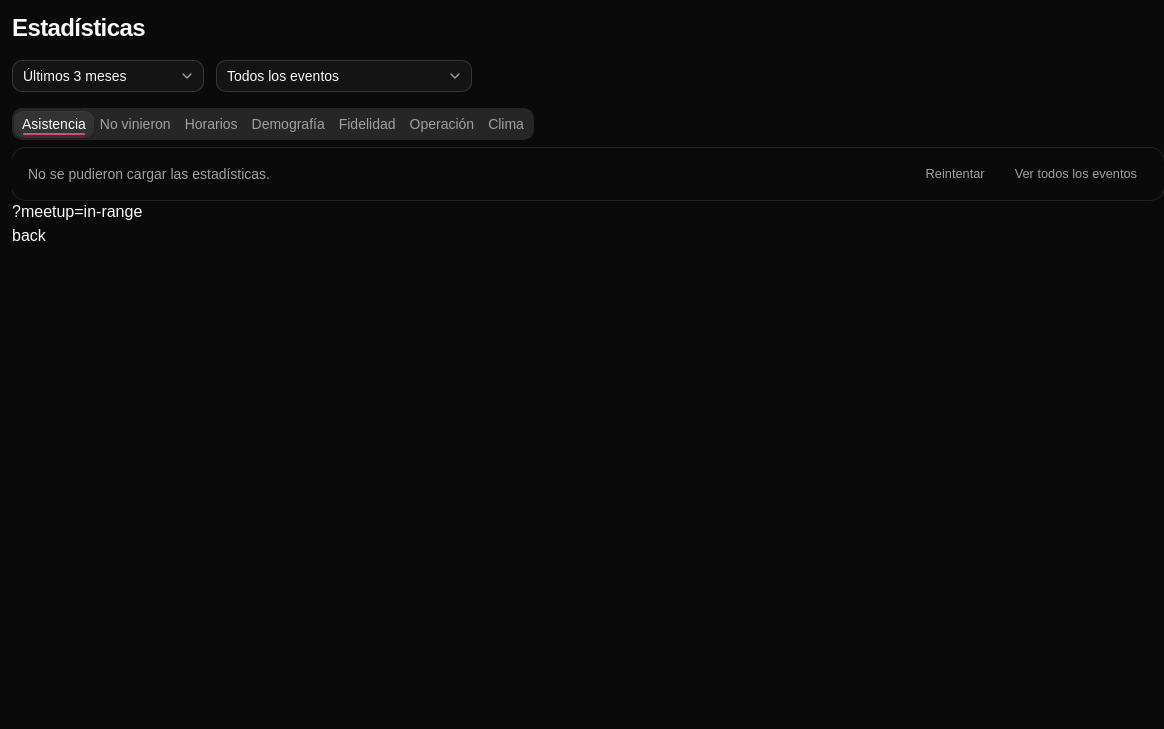
StatsPage › keeps the selected event when the meetups fail to load
Check: the message shows "No se pudieron cargar las estadísticas.", box [28,166,270,182]
Click the button "Reintentar". click: (955, 174)
box: [915,160,996,188]
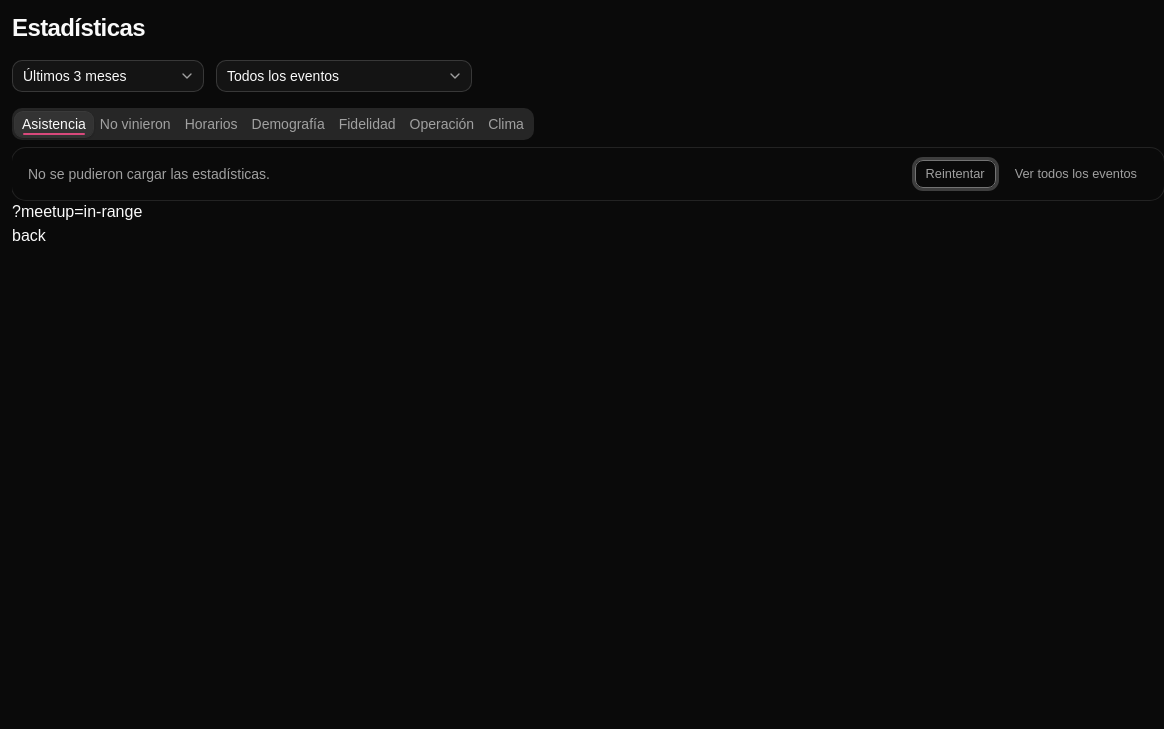
Check: the text with test id "search" reads "?meetup=in-range", box [12,203,142,220]
Click the button "Ver todos los eventos". click: (1076, 174)
box: [1004,160,1148,188]
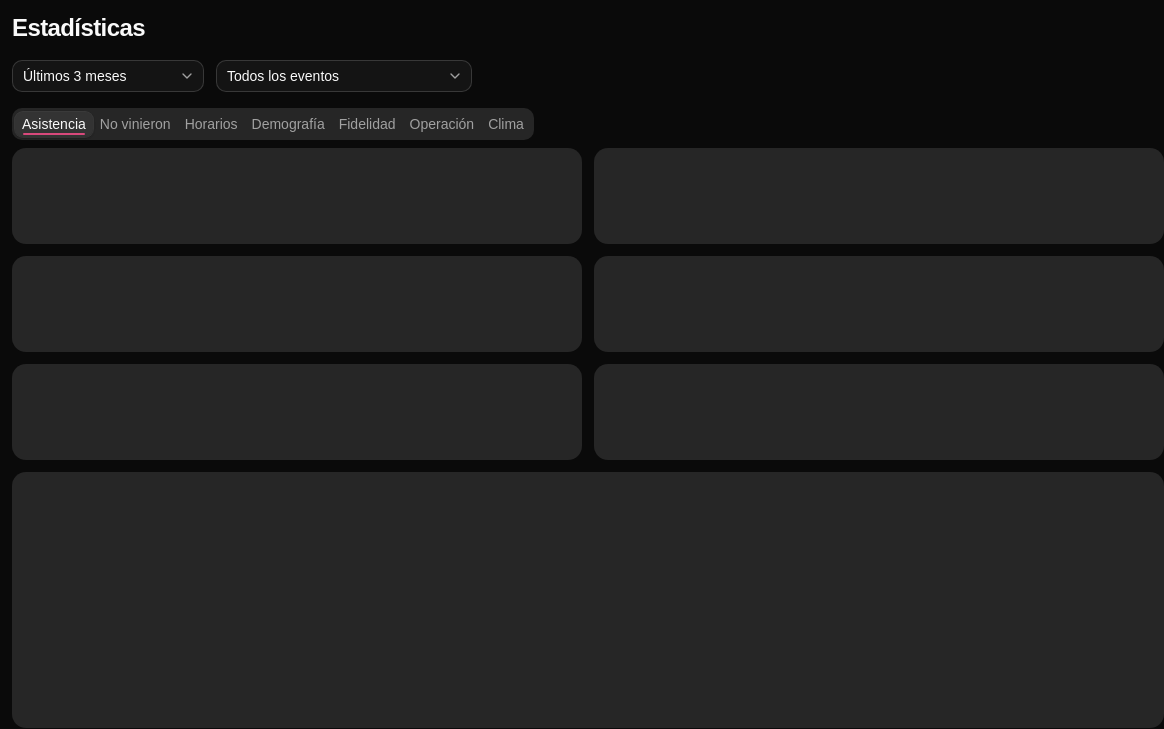
Check: the message "No se pudieron cargar las estadísticas. Reintentar Ver todos los eventos" is gone
